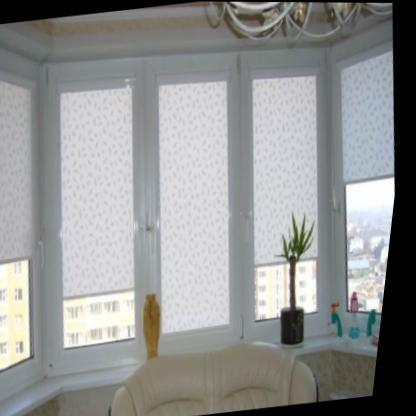Window: (20, 52, 179, 363), (124, 43, 277, 350), (245, 42, 338, 344), (0, 48, 54, 396), (334, 37, 399, 314)
